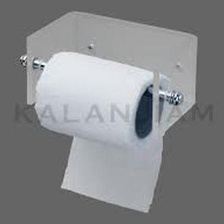tissue: (26, 45, 175, 218)
